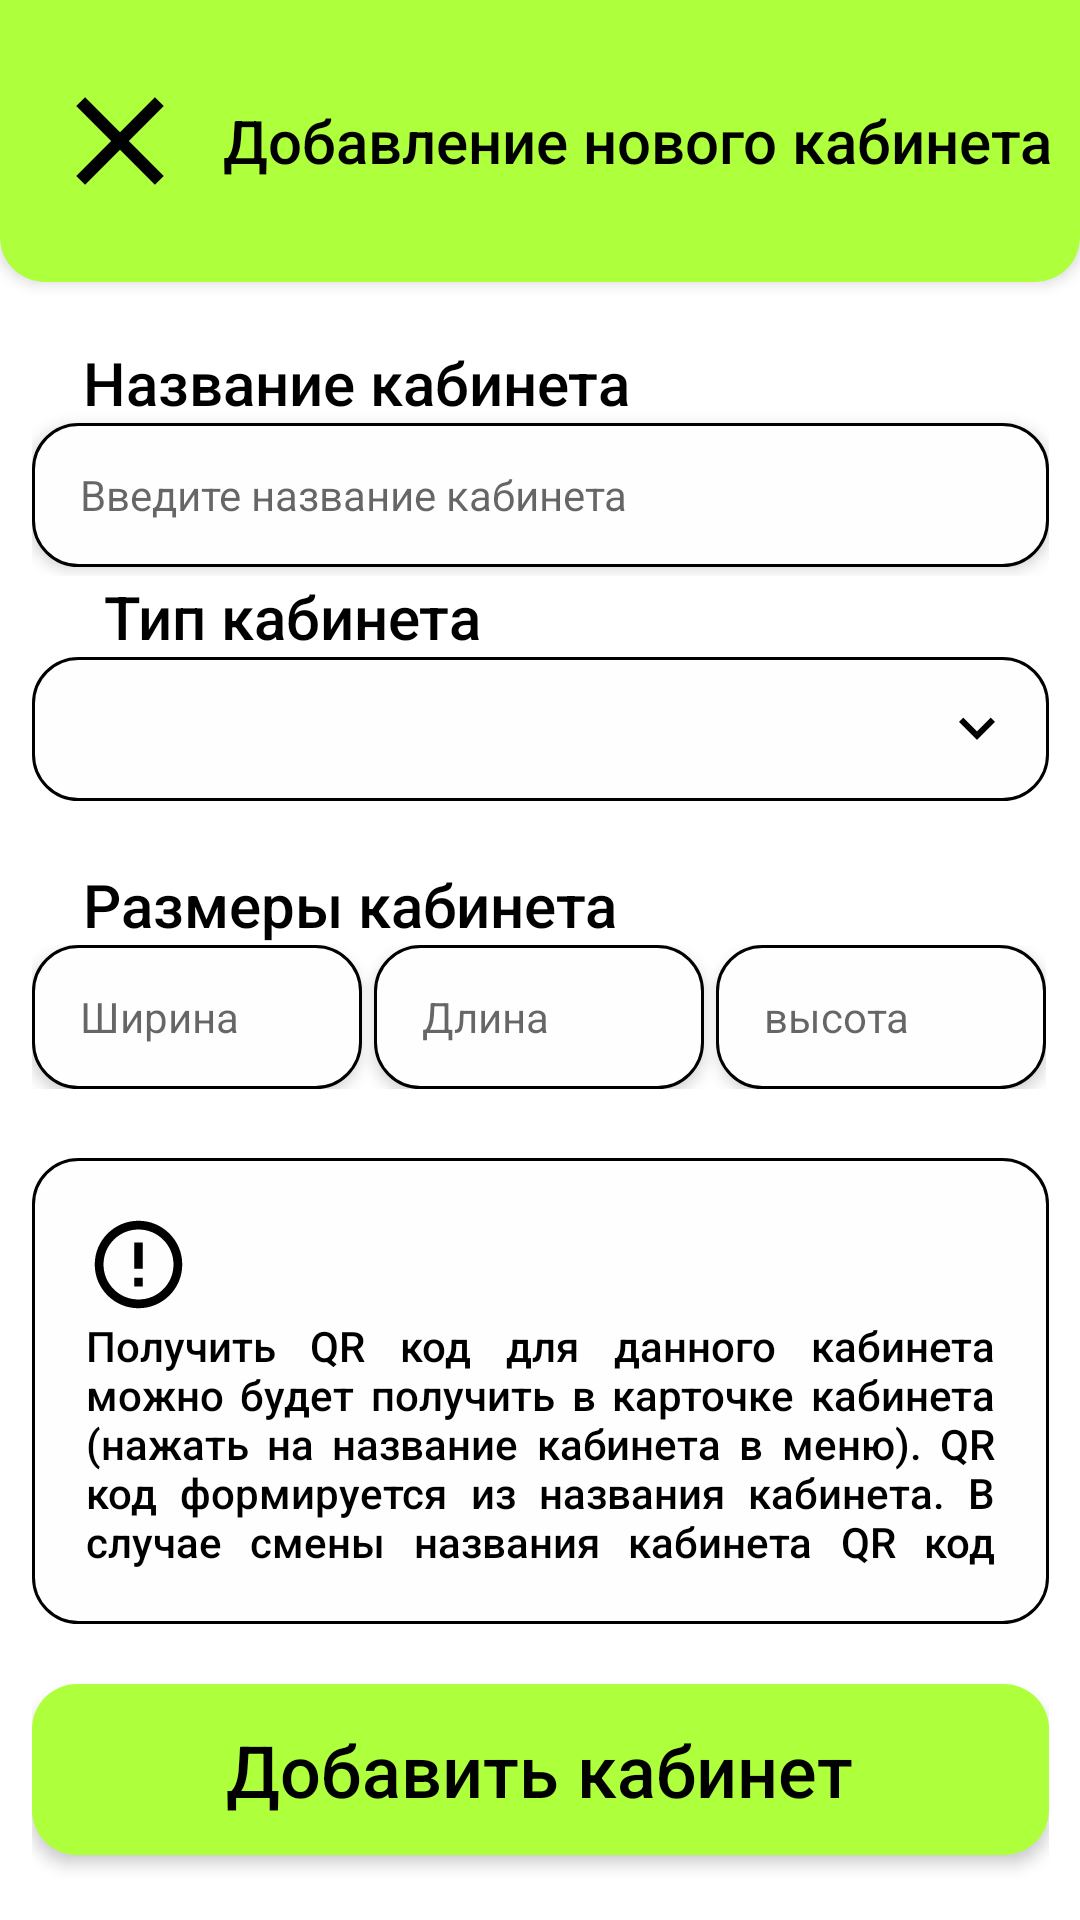

Screen size 1080px x 1920px. Icon name, then its box in pixels as rect(x1, y1, x2, y2):
иконка предупреждения: rect(94, 1220, 183, 1309)
кнопка выхода: rect(76, 97, 164, 185)
Стрелка: rect(959, 717, 995, 740)
